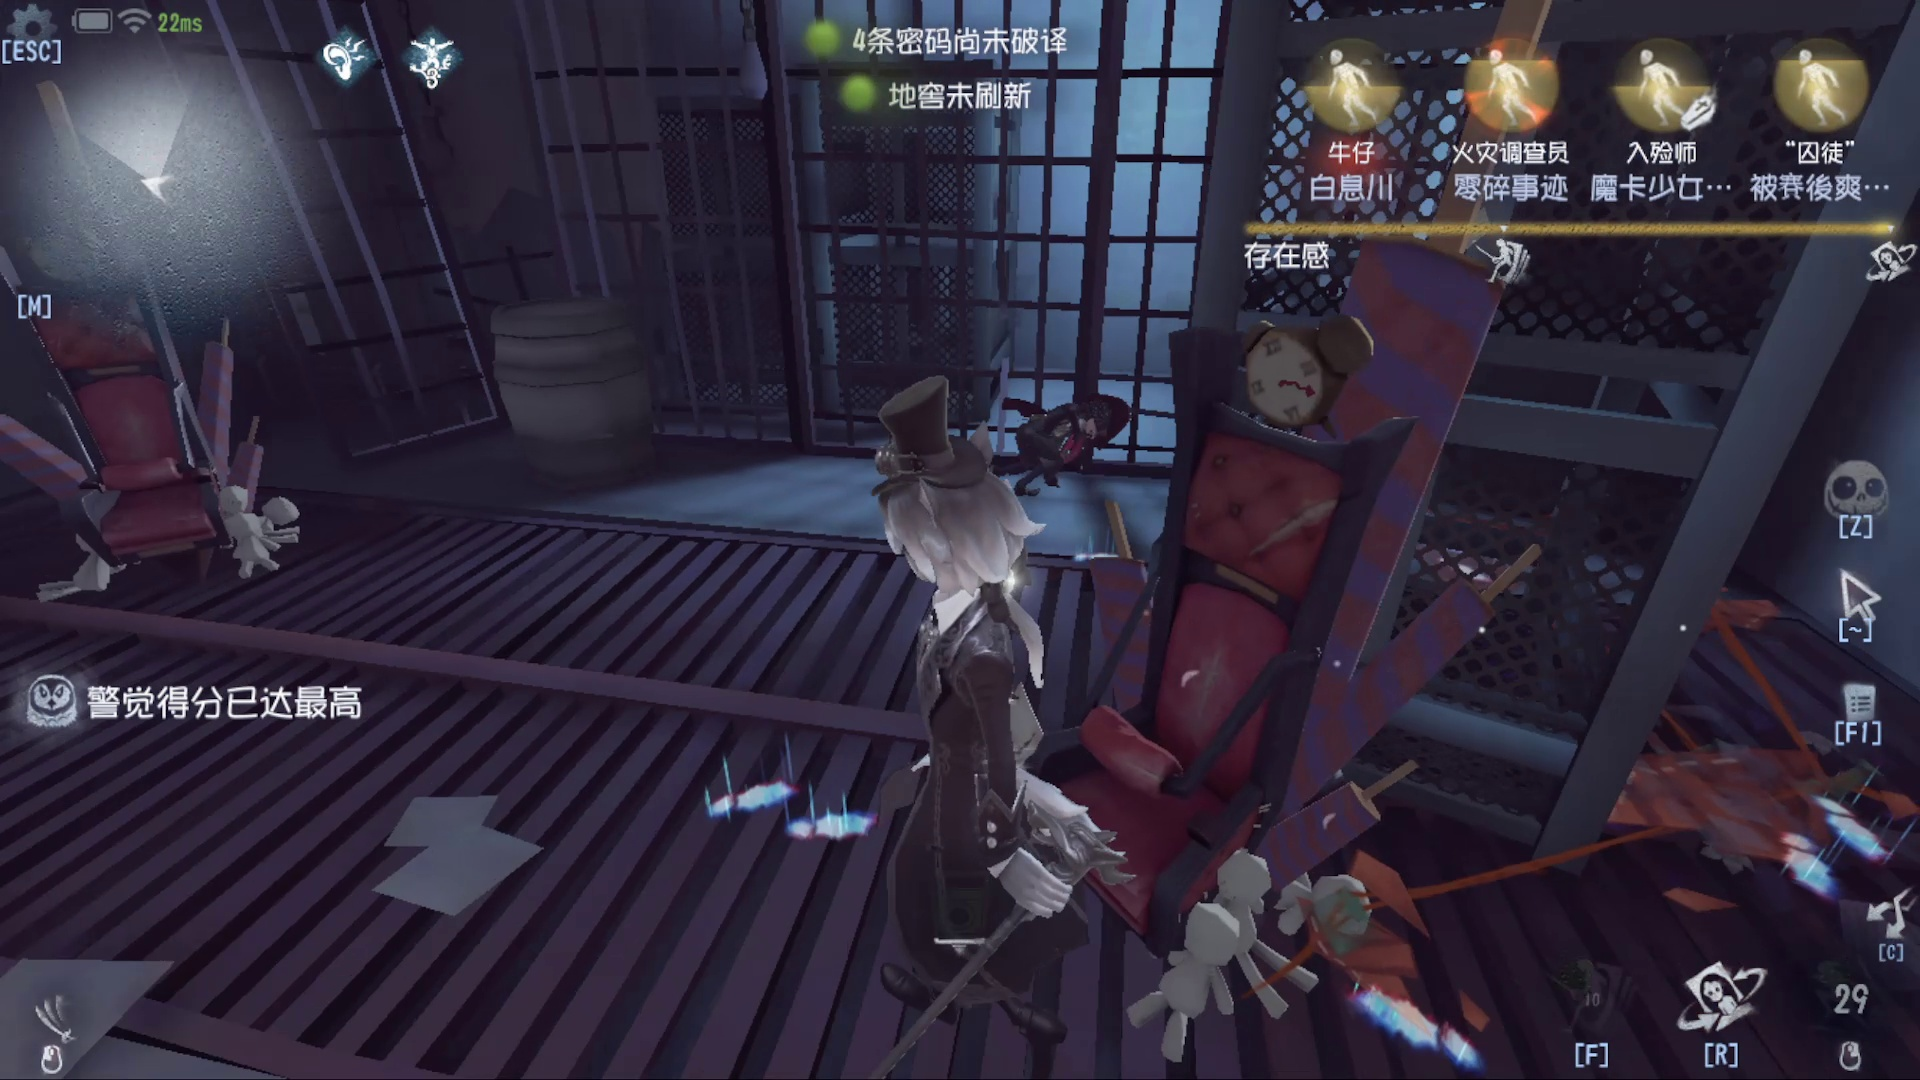求生者: (996, 355, 1121, 492)
狂欢之椅: (1122, 269, 1456, 985)
